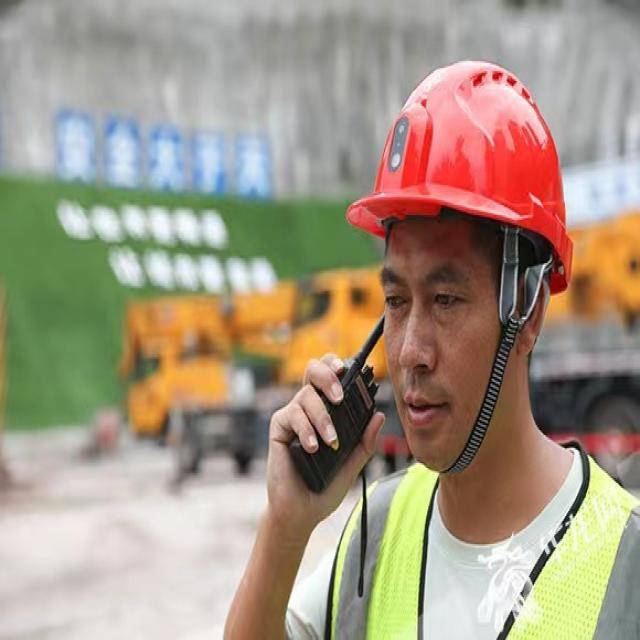helmet: (337, 55, 580, 301)
